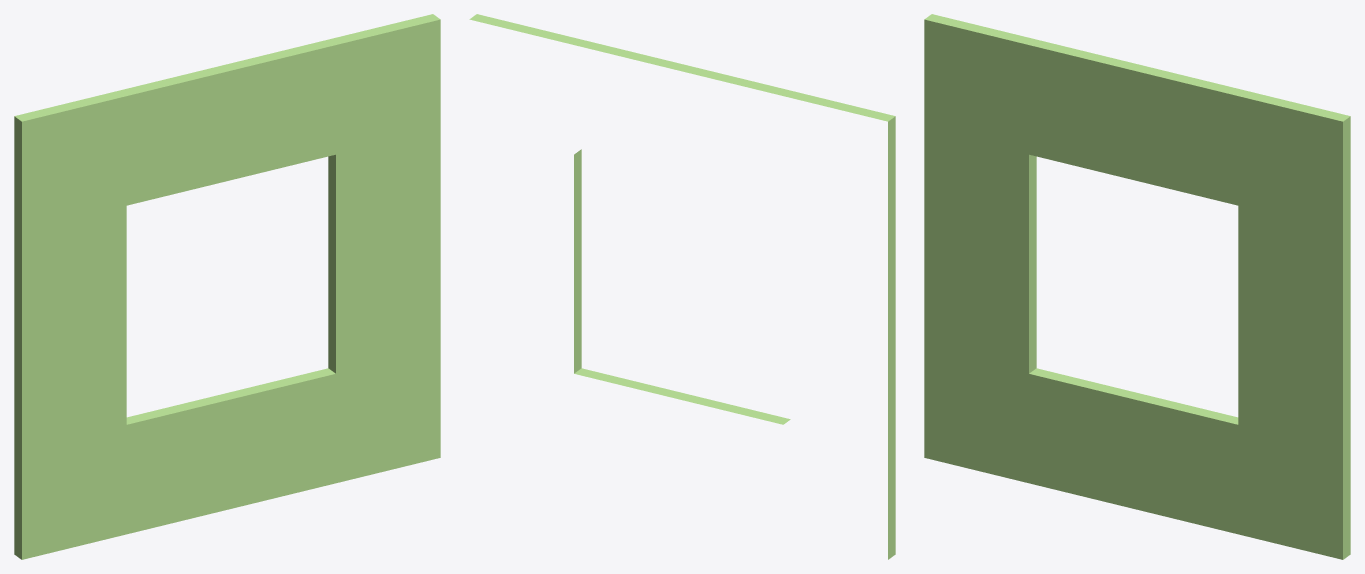
File: SM_Window.glb
3 renders of one model, left to right at view 1: azimuth 30°, elevation 25°; view 2: azimuth 150°, elevation 25°; view 3: azimuth 330°, elevation 25°, orthographic.
Visible parts, largest first — view 1: SM_Window; view 2: SM_Window; view 3: SM_Window.
Boxes of the visible parts, box(x1,y1,x2,y2) form: SM_Window: box(14, 14, 440, 559); SM_Window: box(469, 14, 895, 559); SM_Window: box(924, 14, 1350, 559).
Bounding box in the file's own units: 2 × 2 × 0.0625.
